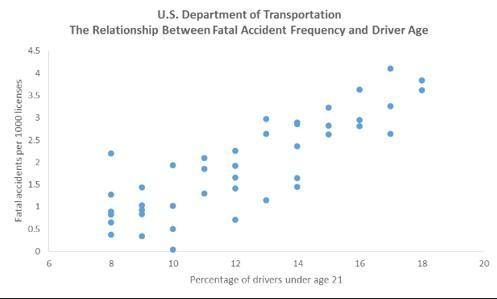axis: (45, 249, 489, 255), (44, 47, 53, 256)
point: (290, 139, 305, 154), (290, 116, 305, 130), (105, 148, 118, 160), (167, 158, 179, 171), (353, 121, 367, 132), (354, 113, 368, 124), (230, 212, 242, 224), (260, 113, 272, 125), (385, 100, 397, 112), (107, 188, 118, 201), (323, 131, 336, 142), (105, 229, 117, 240), (199, 152, 211, 163), (323, 102, 335, 113), (386, 62, 397, 74), (136, 199, 149, 209), (168, 223, 179, 234), (261, 194, 272, 205), (261, 128, 272, 139), (324, 119, 335, 130), (291, 173, 304, 182), (417, 75, 430, 84), (106, 208, 117, 218), (169, 200, 179, 211), (200, 164, 211, 174), (231, 145, 241, 156), (231, 184, 242, 194), (293, 182, 304, 192), (354, 85, 365, 95), (386, 128, 396, 139), (417, 86, 429, 95), (107, 218, 117, 228), (169, 245, 179, 255), (231, 161, 241, 171), (200, 189, 211, 198), (230, 173, 241, 182), (137, 231, 147, 240), (138, 206, 148, 215), (138, 183, 148, 192), (138, 211, 147, 218)
